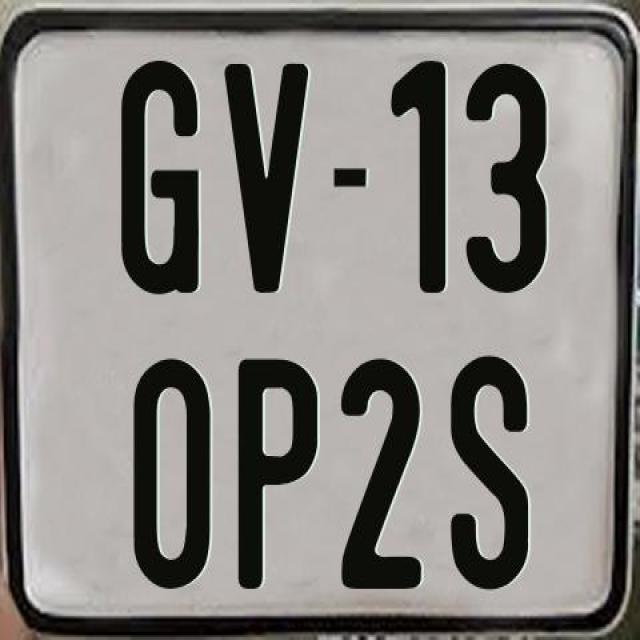0: (132, 357, 216, 596)
1: (388, 58, 447, 292)
2: (337, 355, 419, 595)
3: (462, 59, 550, 288)
G: (120, 56, 203, 298)
P: (234, 356, 314, 594)
S: (450, 356, 534, 596)
V: (224, 61, 308, 294)
